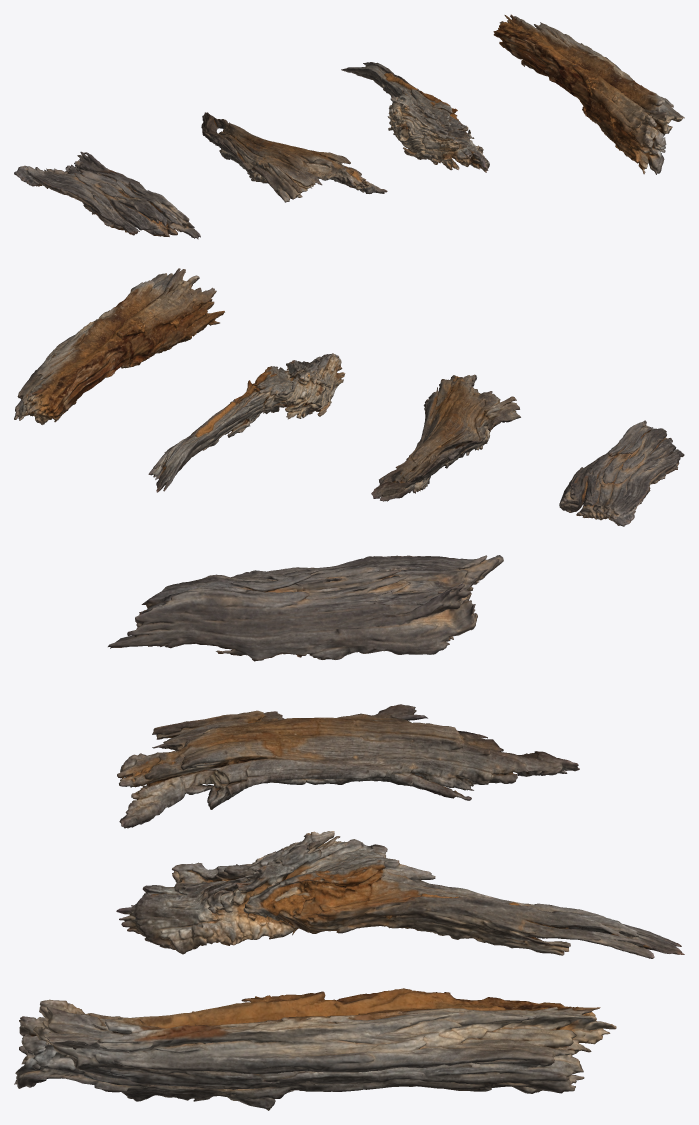
File: bark_debris_01_1k.gltf
3 renders of one model, top to bottom at view 1: azimuth 30°, elevation 25°; view 2: azimuth 150°, elevation 25°; view 3: azimuth 270°, elevation 25°, orthographic. The views are drawn at different scales.
Parts seen in each view (by area): view 1: bark_debris_01_d, bark_debris_01_a, bark_debris_01_b, bark_debris_01_c; view 2: bark_debris_01_d, bark_debris_01_b, bark_debris_01_c, bark_debris_01_a; view 3: bark_debris_01_d, bark_debris_01_c, bark_debris_01_a, bark_debris_01_b.
Boxes of the visible parts, x1,y1,x2,y2 form: bark_debris_01_d: (493, 14, 684, 174); bark_debris_01_a: (14, 151, 200, 239); bark_debris_01_b: (201, 112, 387, 202); bark_debris_01_c: (341, 62, 489, 172); bark_debris_01_d: (14, 268, 224, 424); bark_debris_01_b: (371, 374, 520, 501); bark_debris_01_c: (148, 353, 345, 492); bark_debris_01_a: (559, 420, 684, 526); bark_debris_01_d: (14, 988, 616, 1110); bark_debris_01_c: (116, 831, 684, 958); bark_debris_01_a: (108, 555, 503, 661); bark_debris_01_b: (117, 704, 579, 828).
Bounding box in the file's own units: 1.21 × 0.1121 × 0.6745.
Materials: 1 (1 with a texture image).
